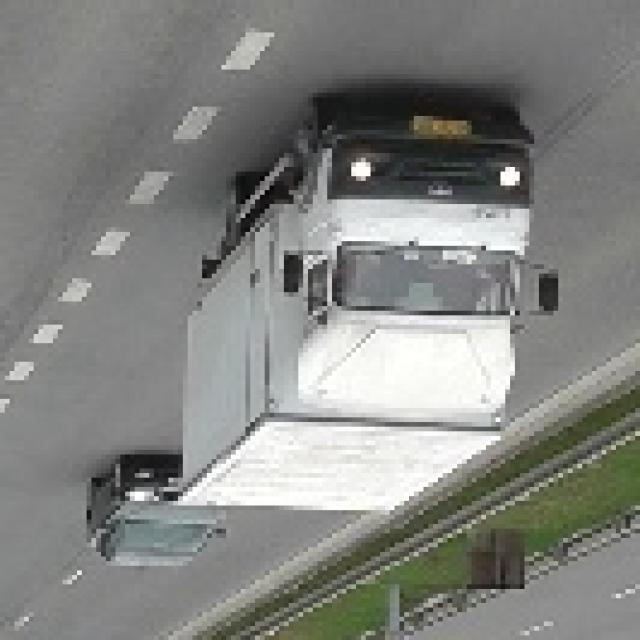truck: (178, 88, 558, 515)
